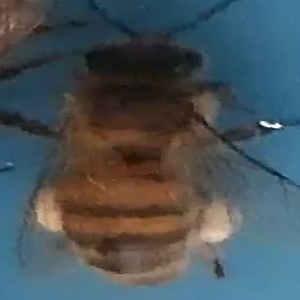bee: (33, 36, 293, 293)
